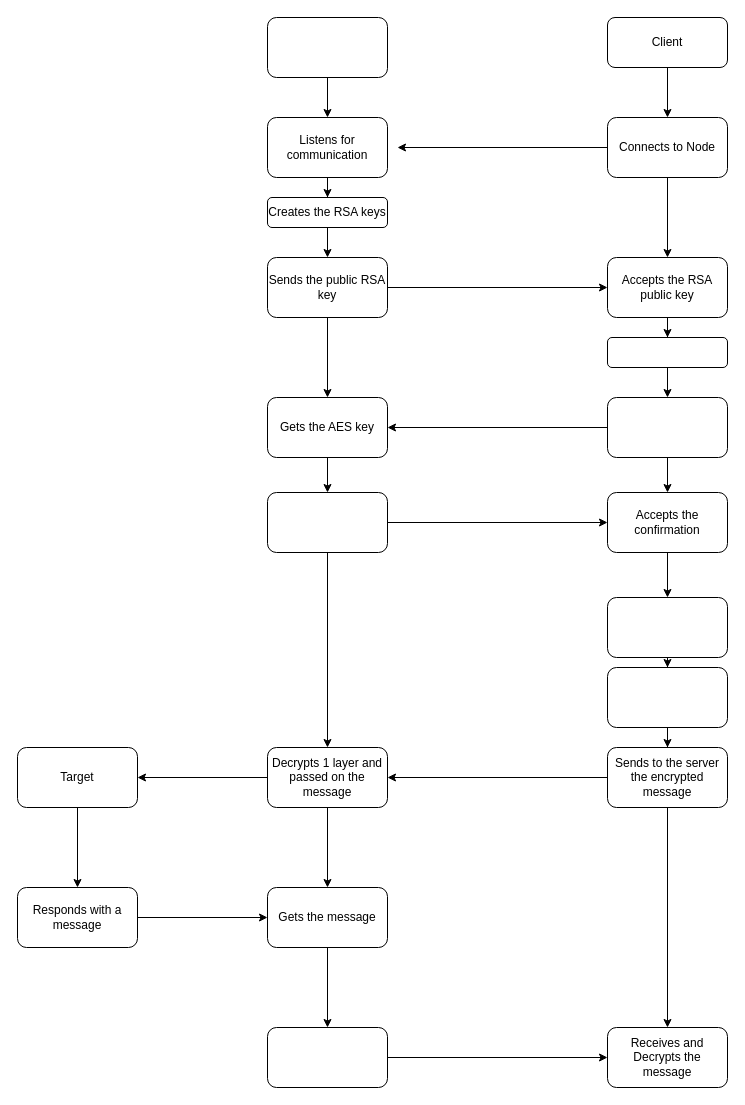
Some shapes in this 745 by 1105 pixel diagram are drawn without their labels. Here are the shapes that lost their labels. From the top down, the centre of each, then its label:
(x=327, y=47): Node
(x=667, y=352): Creates AES key
(x=667, y=427): Encrypts the AES key using the RSA public key and sends it
(x=327, y=522): Confirms the acceptance
(x=667, y=627): Writes a message
(x=667, y=697): Encrpyts with AES
(x=327, y=1057): Encrpyts the message
